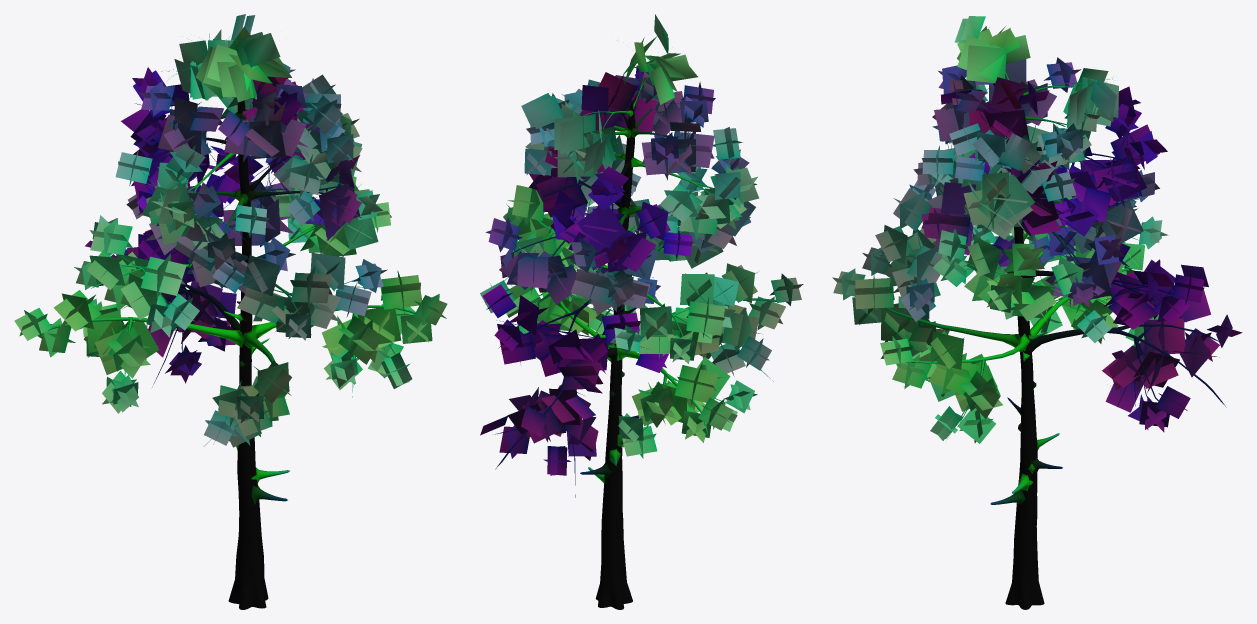
File: icky pine tree.fbx
3 renders of one model, left to right at view 1: azimuth 30°, elevation 25°; view 2: azimuth 150°, elevation 25°; view 3: azimuth 270°, elevation 25°, orthographic. The views are drawn at different scales.
Visible parts, largest first — view 1: scotspineleaves_1, _0; view 2: scotspineleaves_1, _0; view 3: scotspineleaves_1, _0.
Boxes of the visible parts, x1,y1,x2,y2 form: scotspineleaves_1: [14, 14, 447, 447]; _0: [48, 39, 415, 609]; scotspineleaves_1: [480, 14, 803, 475]; _0: [495, 60, 776, 609]; scotspineleaves_1: [832, 16, 1242, 443]; _0: [854, 27, 1226, 609].
Bounding box in the file's own units: 1016 × 1804 × 1163.
